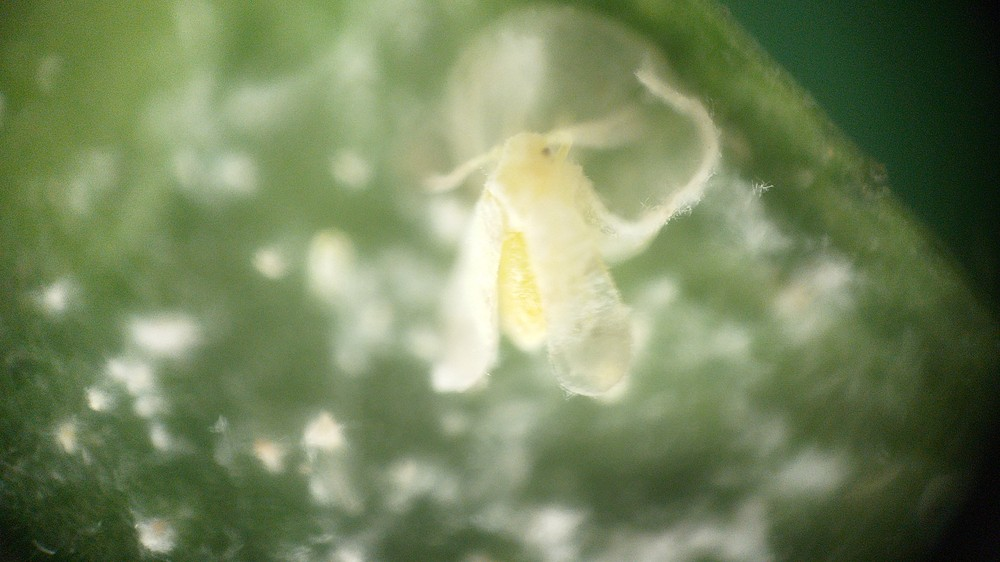Mosca Blanca: (388, 102, 691, 431)
